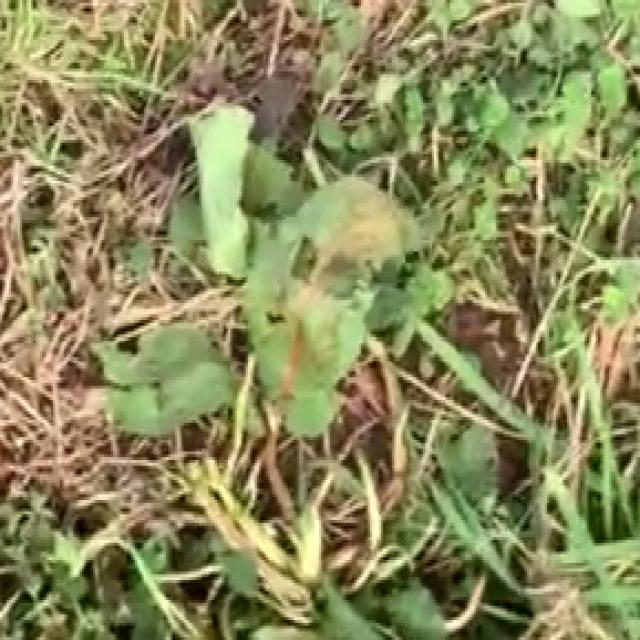organic waste: (108, 109, 470, 540)
